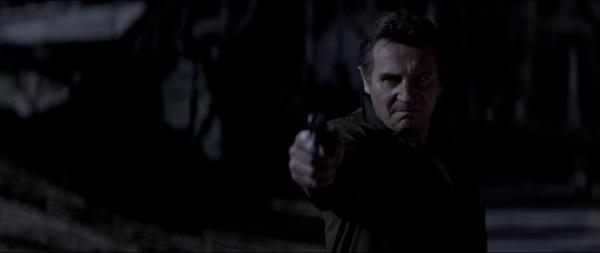Gun: (305, 114, 329, 147)
